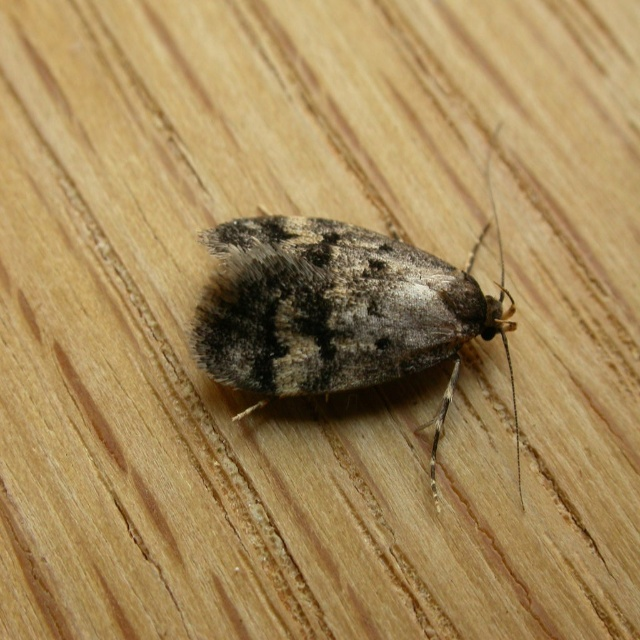Moths and butterflies: (188, 116, 526, 517)
